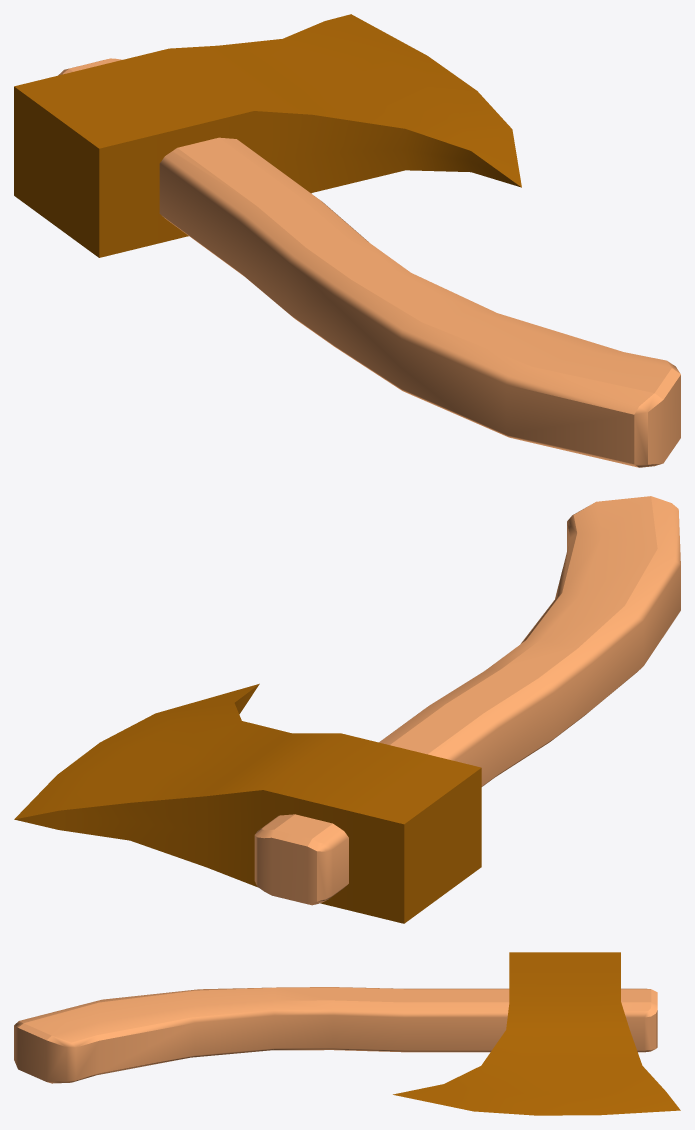
Rendered from Axe_08.fbx.
3 renders of one model, top to bottom at view 1: azimuth 30°, elevation 25°; view 2: azimuth 150°, elevation 25°; view 3: azimuth 270°, elevation 25°, orthographic. The views are drawn at different scales.
Visible parts, largest first — view 1: Axe_08; view 2: Axe_08; view 3: Axe_08.
Boxes of the visible parts, x1,y1,x2,y2 form: Axe_08: (14, 14, 680, 467); Axe_08: (14, 496, 680, 923); Axe_08: (14, 952, 680, 1115).
Size of the model in its own units: 3.82 by 1 by 8.44.
